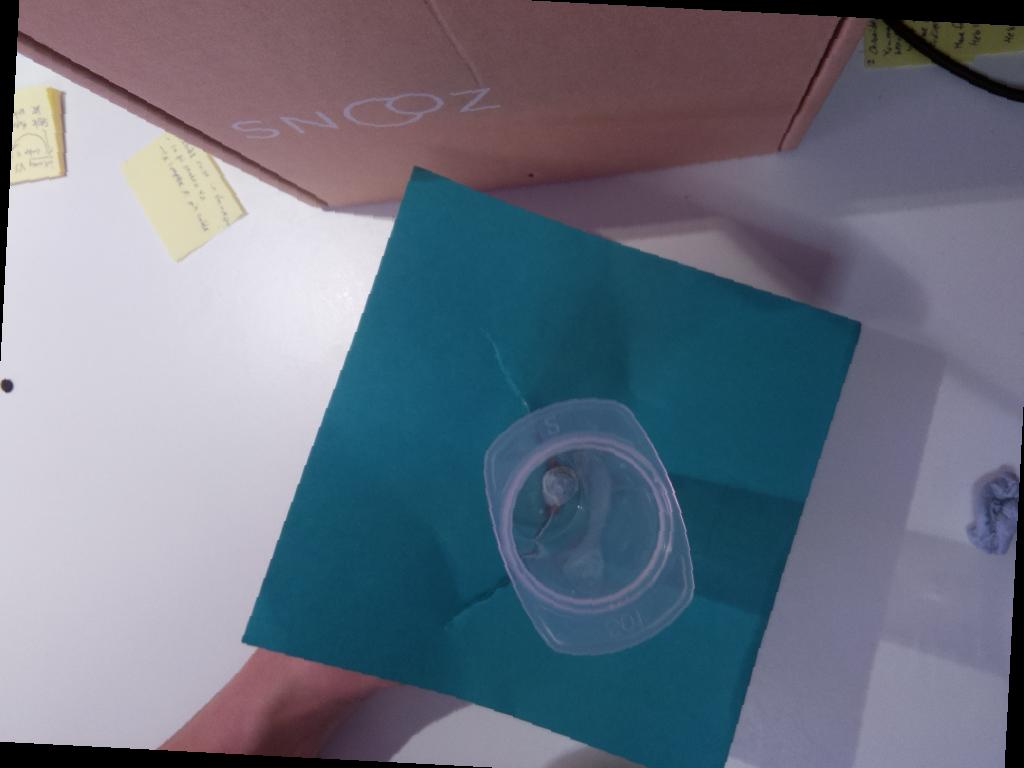clean: (482, 396, 696, 656)
